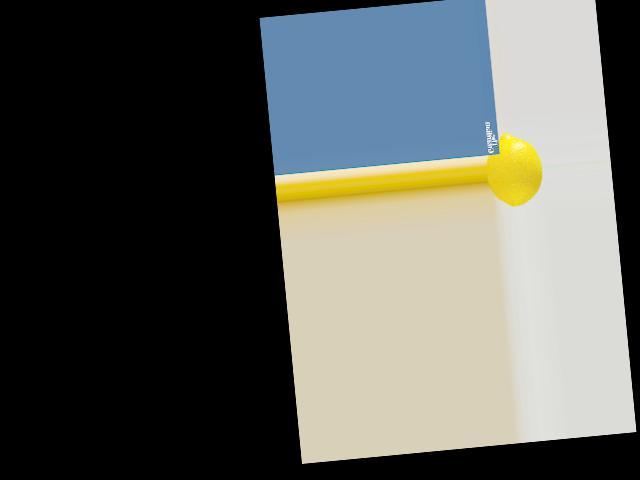lemon: (482, 126, 545, 213)
